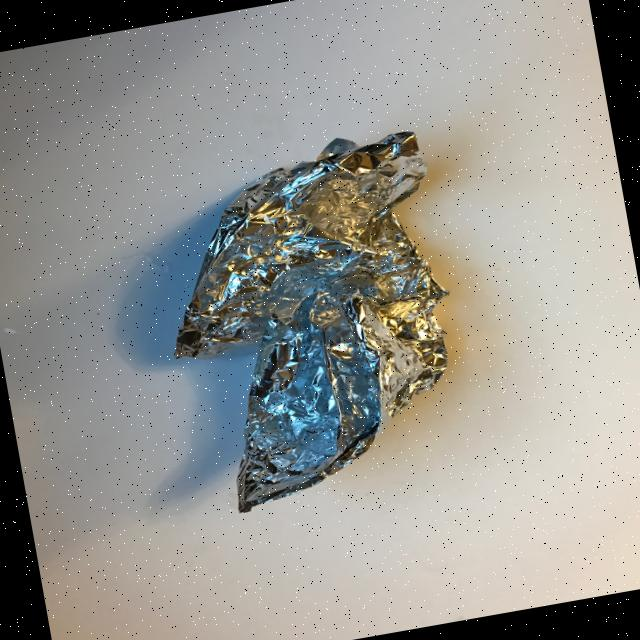metal: (140, 121, 482, 520)
